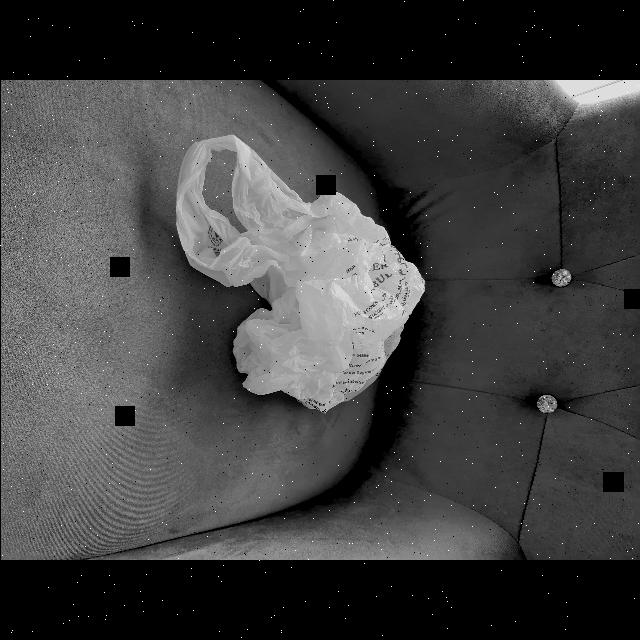plastic_bag: (175, 140, 428, 408)
